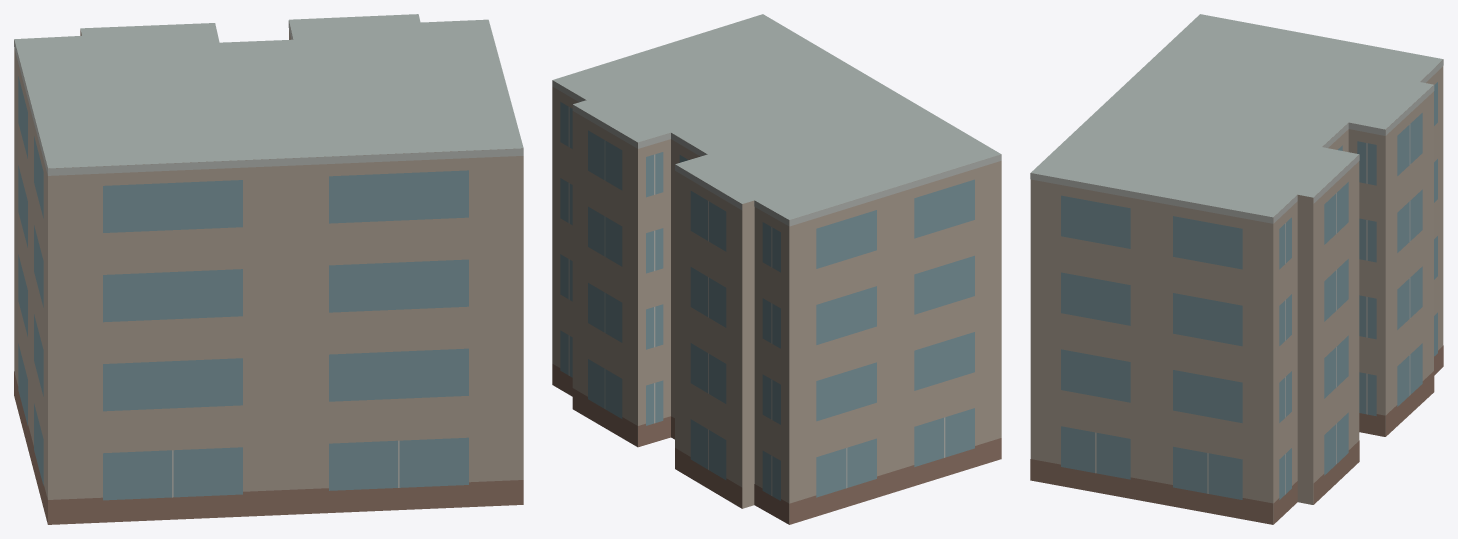
The model's file is survey-upis-32970017.glb.
3 views of the same model, side by side, from view 1: azimuth 30°, elevation 25°; view 2: azimuth 150°, elevation 25°; view 3: azimuth 270°, elevation 25° (orthographic). The views are drawn at different scales.
Parts seen in each view (by area): view 1: survey-upis-32970017.tmp; view 2: survey-upis-32970017.tmp; view 3: survey-upis-32970017.tmp.
Part boxes in pixels (x1,y1,x2,y2): survey-upis-32970017.tmp: (14, 14, 523, 524); survey-upis-32970017.tmp: (552, 14, 1001, 524); survey-upis-32970017.tmp: (1030, 14, 1443, 524).
Size of the model in its own units: 16.46 by 11.6 by 14.13.
